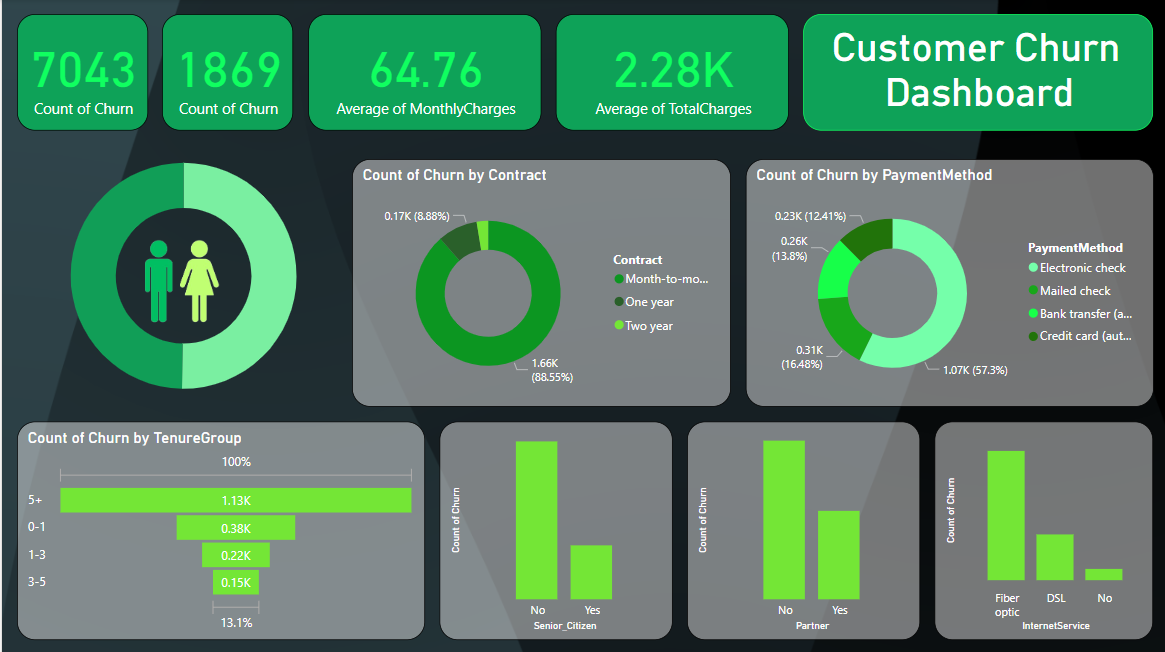

What the dashboard file says about the page in this screenshot:
{"tool":"powerbi","page":{"name":"Page 1","canvas":[1280,720],"ordinal":0},"visuals":[{"type":"card","fields":{"Values":["CountNonNull(Telco_Customer_Churn_Dataset.Churn)"]},"box":[16,16,144,128],"z":0},{"type":"card","fields":{"Values":["CountNonNull(Telco_Customer_Churn_Dataset.Churn)"]},"box":[176,16,144,128],"z":1000},{"type":"card","fields":{"Values":["Avg(Telco_Customer_Churn_Dataset.MonthlyCharges)"]},"box":[336,16,256,128],"z":2000},{"type":"donutChart","fields":{"Category":["Telco_Customer_Churn_Dataset.Contract"],"Y":["CountNonNull(Telco_Customer_Churn_Dataset.Churn)"]},"box":[384,176,416,272],"z":3000},{"type":"columnChart","fields":{"Category":["Telco_Customer_Churn_Dataset.InternetService"],"Y":["CountNonNull(Telco_Customer_Churn_Dataset.Churn)"]},"box":[1024,464,240,240],"z":4000},{"type":"columnChart","fields":{"Category":["Telco_Customer_Churn_Dataset.Partner"],"Y":["CountNonNull(Telco_Customer_Churn_Dataset.Churn)"]},"box":[752,464,256,240],"z":5000},{"type":"donutChart","fields":{"Y":["CountNonNull(Telco_Customer_Churn_Dataset.Churn)"],"Category":["Telco_Customer_Churn_Dataset.PaymentMethod"]},"box":[816,176,448,272],"z":6000},{"type":"columnChart","fields":{"Y":["CountNonNull(Telco_Customer_Churn_Dataset.Churn)"],"Category":["Telco_Customer_Churn_Dataset.Senior_Citizen"]},"box":[480,464,256,240],"z":7000},{"type":"donutChart","title":"Demographic","fields":{"Y":["CountNonNull(Telco_Customer_Churn_Dataset.Churn)"],"Category":["Telco_Customer_Churn_Dataset.gender"]},"box":[32,144,336,320],"z":8000},{"type":"image","box":[112,248,168,128],"z":9000},{"type":"funnel","fields":{"Category":["Telco_Customer_Churn_Dataset.TenureGroup"],"Y":["CountNonNull(Telco_Customer_Churn_Dataset.Churn)"]},"box":[16,464,448,240],"z":10000},{"type":"card","fields":{"Values":["Avg(Telco_Customer_Churn_Dataset.TotalCharges)"]},"box":[608,16,256,128],"z":11000},{"type":"textbox","box":[880,16,384,128],"z":12000}]}

Visuals, with their boxes in screenshot pixels (x1, y1, x2, y2), scaled from the page's 1280x720 canvas onto the 1165x652 screenshot:
card - CountNonNull(Telco_Customer_Churn_Dataset.Churn): 15,14,146,130
card - CountNonNull(Telco_Customer_Churn_Dataset.Churn): 160,14,291,130
card - Avg(Telco_Customer_Churn_Dataset.MonthlyCharges): 306,14,539,130
donutChart - Telco_Customer_Churn_Dataset.Contract x CountNonNull(Telco_Customer_Churn_Dataset.Churn): 350,159,728,406
columnChart - Telco_Customer_Churn_Dataset.InternetService x CountNonNull(Telco_Customer_Churn_Dataset.Churn): 932,420,1150,638
columnChart - Telco_Customer_Churn_Dataset.Partner x CountNonNull(Telco_Customer_Churn_Dataset.Churn): 684,420,917,638
donutChart - CountNonNull(Telco_Customer_Churn_Dataset.Churn) x Telco_Customer_Churn_Dataset.PaymentMethod: 743,159,1150,406
columnChart - CountNonNull(Telco_Customer_Churn_Dataset.Churn) x Telco_Customer_Churn_Dataset.Senior_Citizen: 437,420,670,638
"Demographic" donutChart: 29,130,335,420
image: 102,225,255,340
funnel - Telco_Customer_Churn_Dataset.TenureGroup x CountNonNull(Telco_Customer_Churn_Dataset.Churn): 15,420,422,638
card - Avg(Telco_Customer_Churn_Dataset.TotalCharges): 553,14,786,130
textbox: 801,14,1150,130
